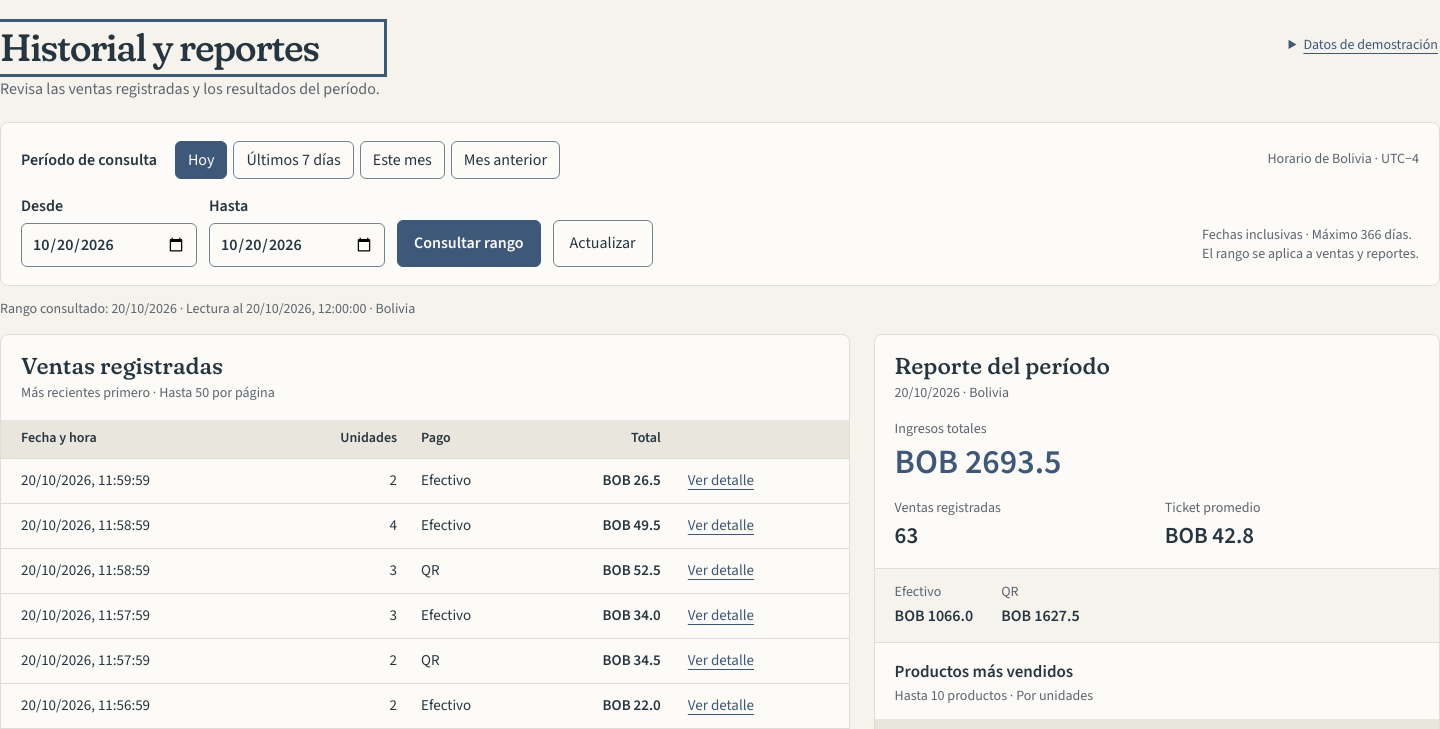
Test: Historial y reportes, interfaz completa › detalle detail-error diferenciable y recuperable sin inventar productos
The width and height of the screenshot is (1440, 729).
Step 1. Click the button "Ver detalle" in the row of "20/10/2026, 11:59:59" → (721, 481), box [685, 459, 757, 503]
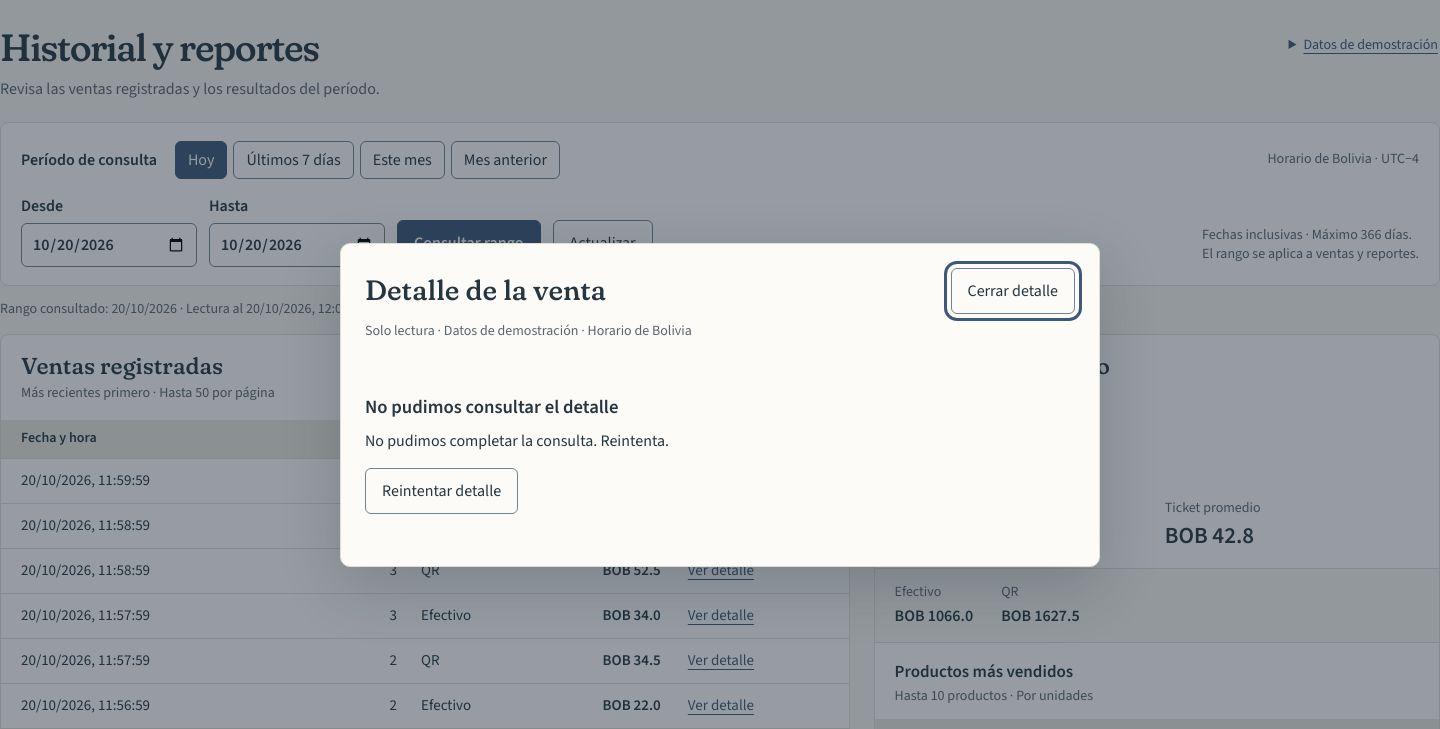
Result: the message that starts with "No pudimos consultar el detalle" is shown at [365, 394, 669, 514]
Step 2. Click the button "Reintentar detalle" → (442, 491), box [365, 468, 518, 514]
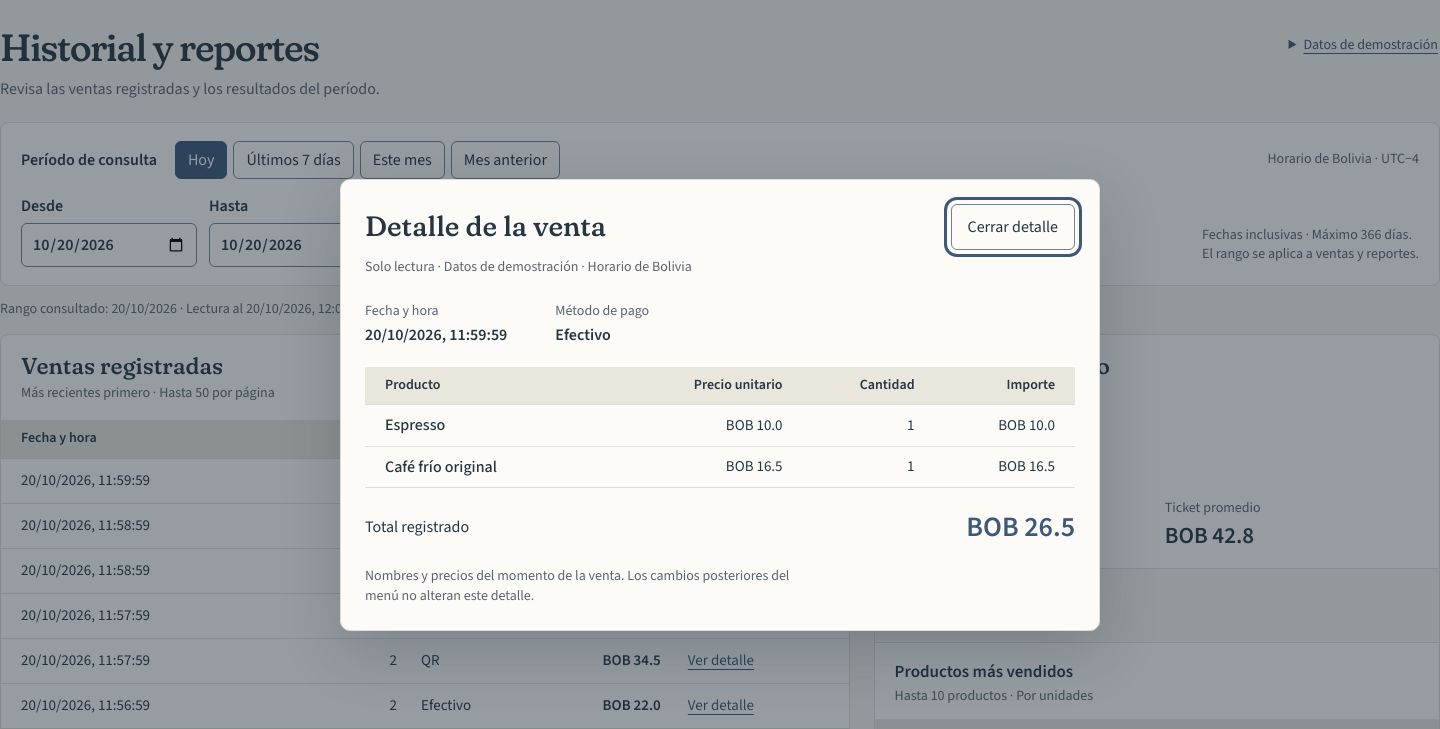
Result: the text "Total registrado" is shown at [365, 516, 469, 539]
